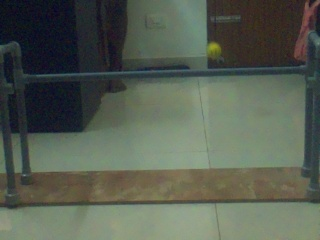ball: (207, 42, 221, 59)
